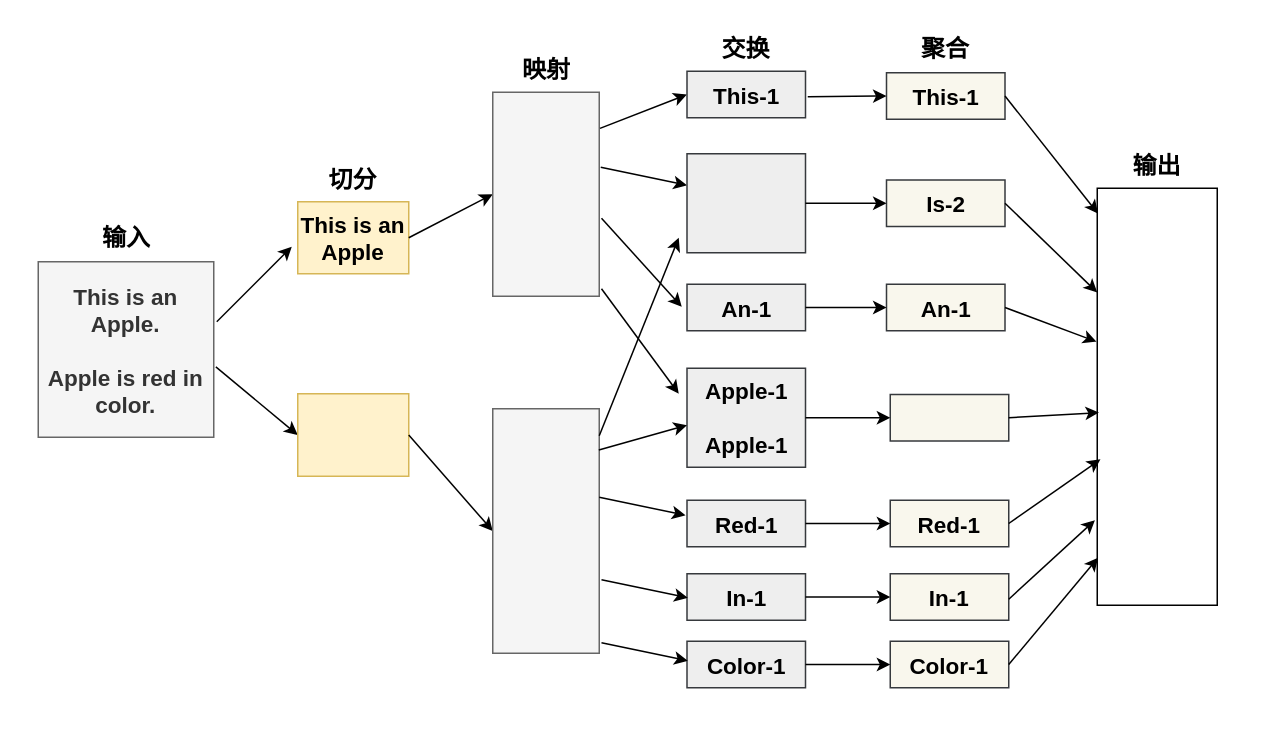
This 1262x731 diagram has some shape labels left out. The centre of each missing label's shape, as x and y in pixels:
Apple is red in color: the point at 352,434
Apple-1 Is-1 Red-1 In-1 Color-1: the point at 545,530
Apple-2: the point at 949,417
Is-1 Is-1: the point at 746,202
This-1 Is-1 An-1 Apple-1: the point at 545,193
This-1 Is-2 An-1 Apple-2 Red-1 In-1 Color-1: the point at 1156,396
